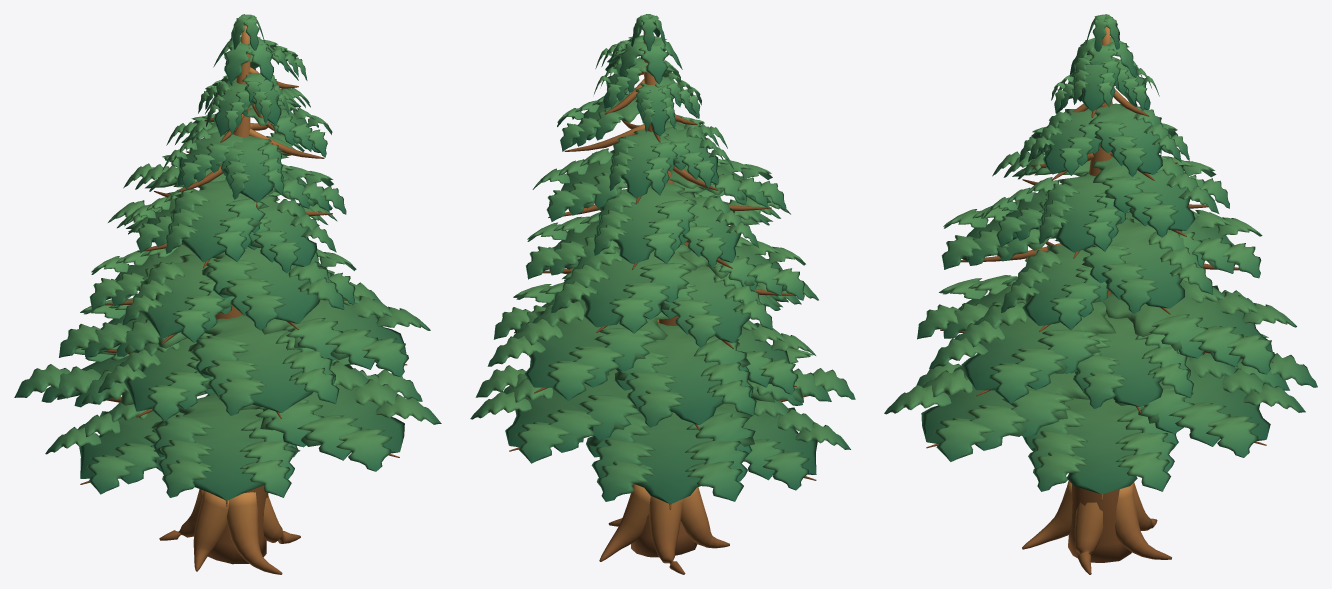
The model's file is wind_pine.glb.
3 renders of one model, left to right at view 1: azimuth 30°, elevation 25°; view 2: azimuth 150°, elevation 25°; view 3: azimuth 270°, elevation 25°, orthographic.
Visible parts, largest first — view 1: Foliage, Wood; view 2: Foliage, Wood; view 3: Foliage, Wood.
Boxes of the visible parts, x1,y1,x2,y2 form: Foliage: [14, 14, 441, 500]; Wood: [80, 25, 407, 574]; Foliage: [470, 14, 855, 503]; Wood: [509, 32, 816, 574]; Foliage: [884, 14, 1317, 494]; Wood: [926, 26, 1273, 574].
Bounding box in the file's own units: 3.68 × 5.74 × 4.18.
